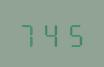five: (63, 20, 84, 47)
four: (41, 20, 62, 47)
seven: (18, 20, 39, 47)
